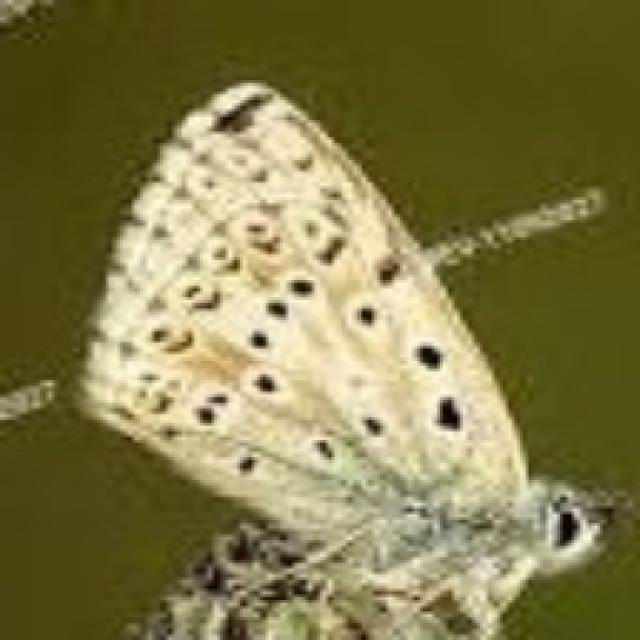butterfly: (0, 74, 631, 637)
